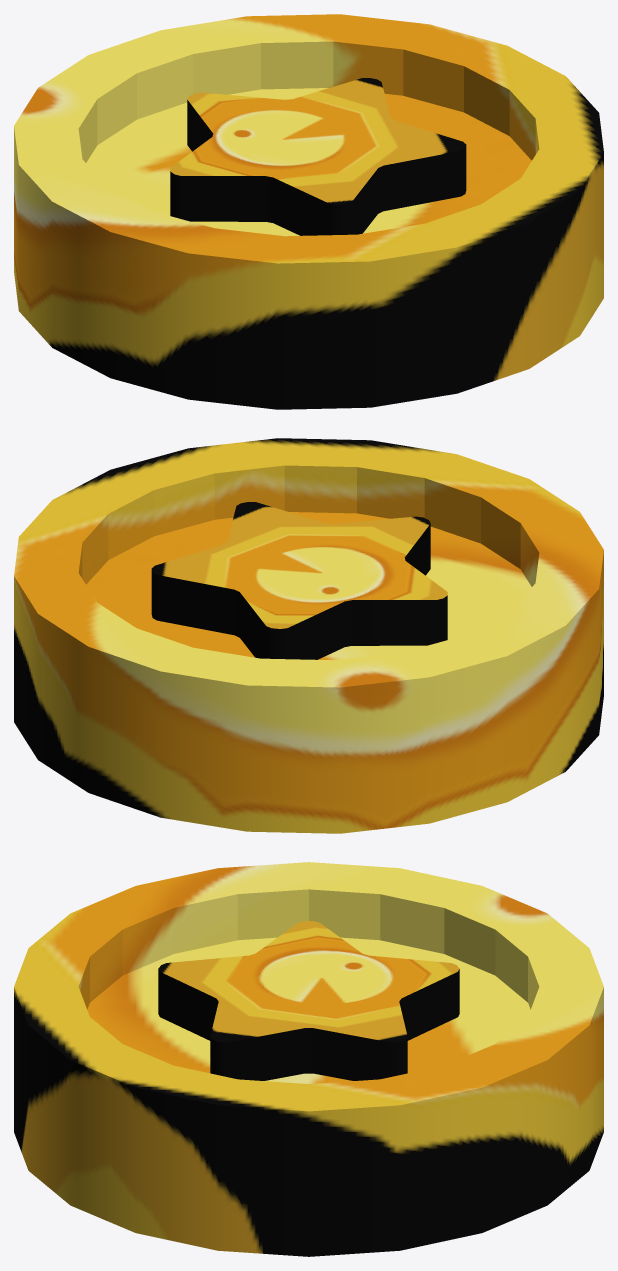
Rendered from jinbi.FBX.
3 views of the same model, one above another, from view 1: azimuth 30°, elevation 25°; view 2: azimuth 150°, elevation 25°; view 3: azimuth 270°, elevation 25° (orthographic).
Parts seen in each view (by area): view 1: jinbi; view 2: jinbi; view 3: jinbi.
Part boxes in pixels (bbox=[...]): jinbi: bbox=[14, 14, 603, 409]; jinbi: bbox=[14, 438, 603, 833]; jinbi: bbox=[14, 862, 603, 1256].
Bounding box in the file's own units: 0.9627 × 0.2619 × 0.9627.
